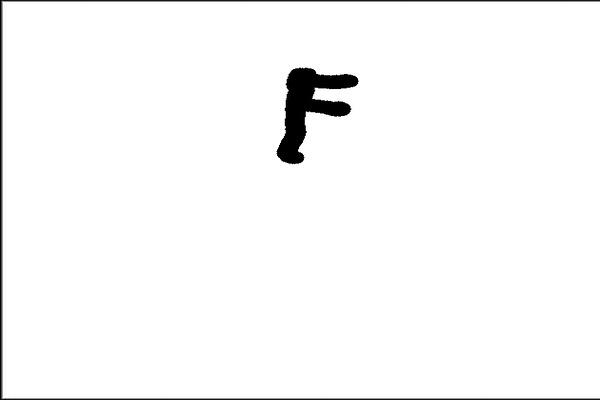F: (272, 62, 361, 167)
